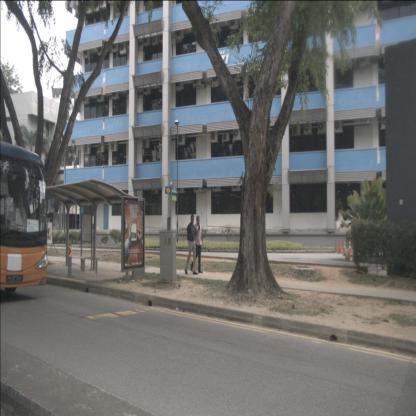cone: (342, 238, 347, 256), (348, 238, 352, 257), (338, 237, 342, 254), (334, 237, 338, 253)
